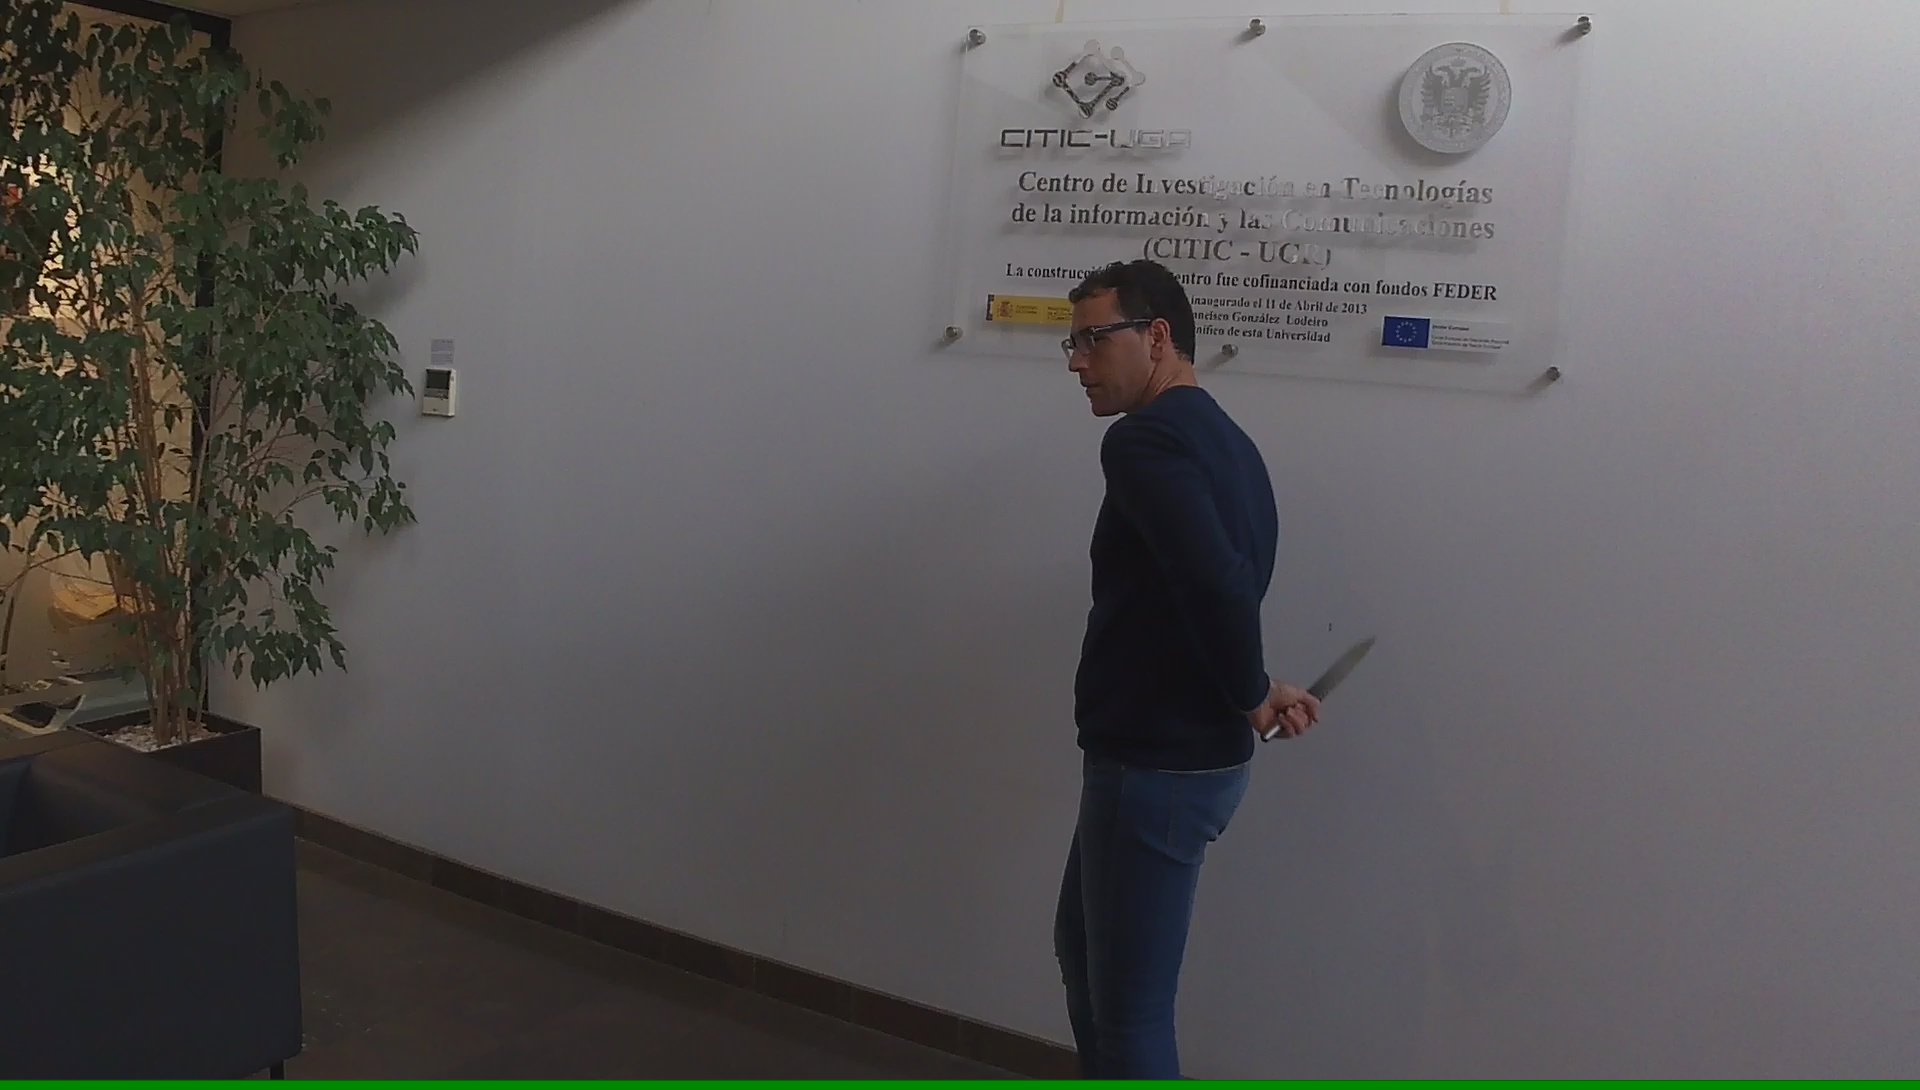knife: (1255, 627, 1390, 751)
